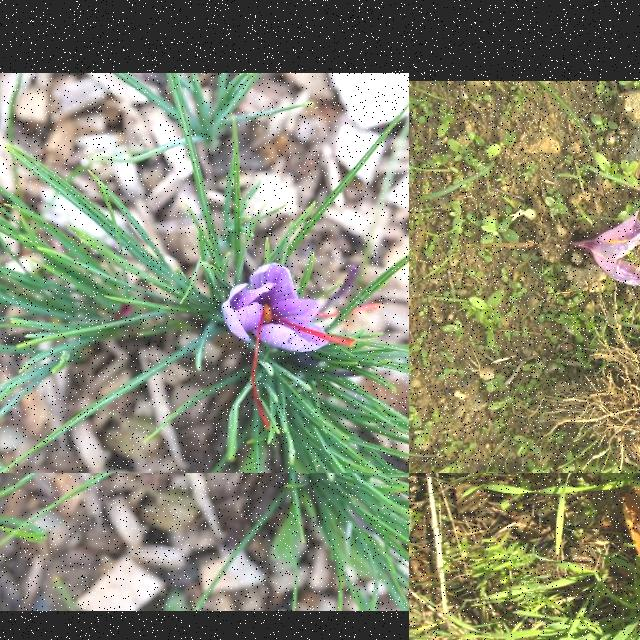flower: (222, 264, 382, 428), (572, 210, 640, 285)
